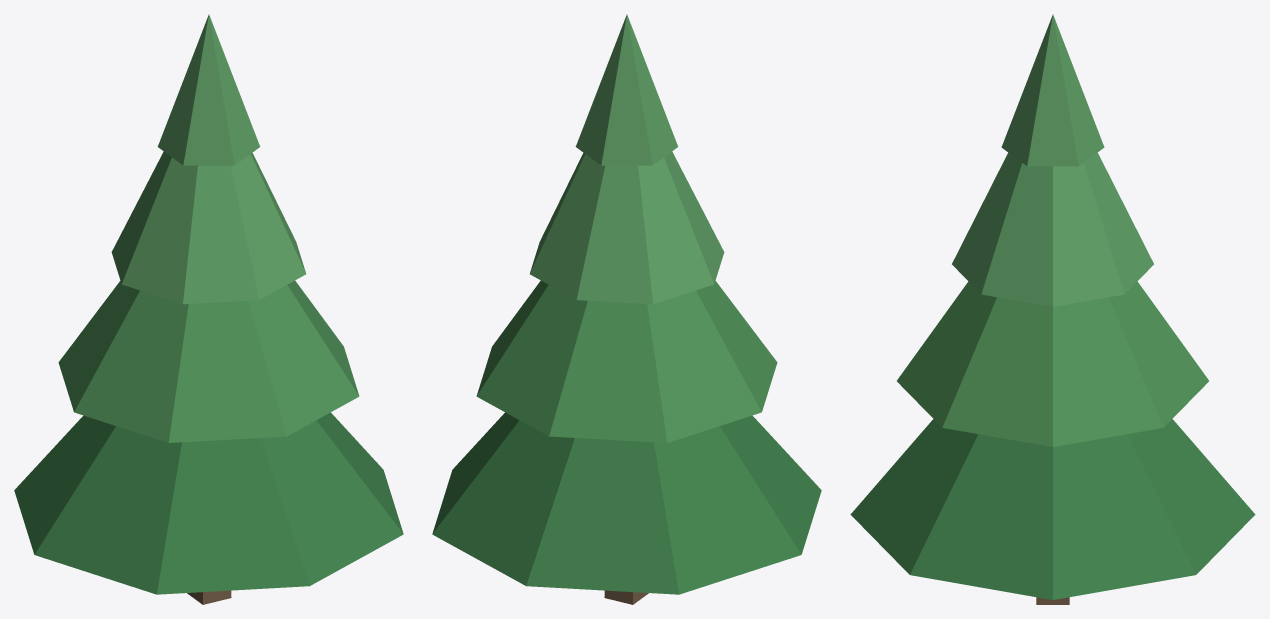
The model's file is pine_tree.fbx.
3 views of the same model, side by side, from view 1: azimuth 30°, elevation 25°; view 2: azimuth 150°, elevation 25°; view 3: azimuth 270°, elevation 25° (orthographic).
Parts seen in each view (by area): view 1: pine_tree; view 2: pine_tree; view 3: pine_tree.
Part boxes in pixels (left/top/right/bottom): pine_tree: left=14, top=14, right=403, bottom=604; pine_tree: left=432, top=14, right=821, bottom=604; pine_tree: left=850, top=14, right=1255, bottom=604.
Bounding box in the file's own units: 2.2 × 3.5 × 2.2.
